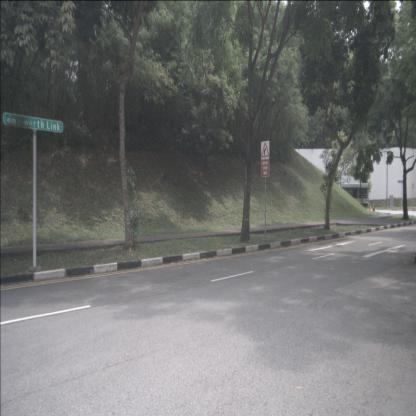movable_object-trafficcone: (372, 203, 375, 212), (369, 204, 371, 212)
vehicle-truck: (332, 183, 369, 209)
